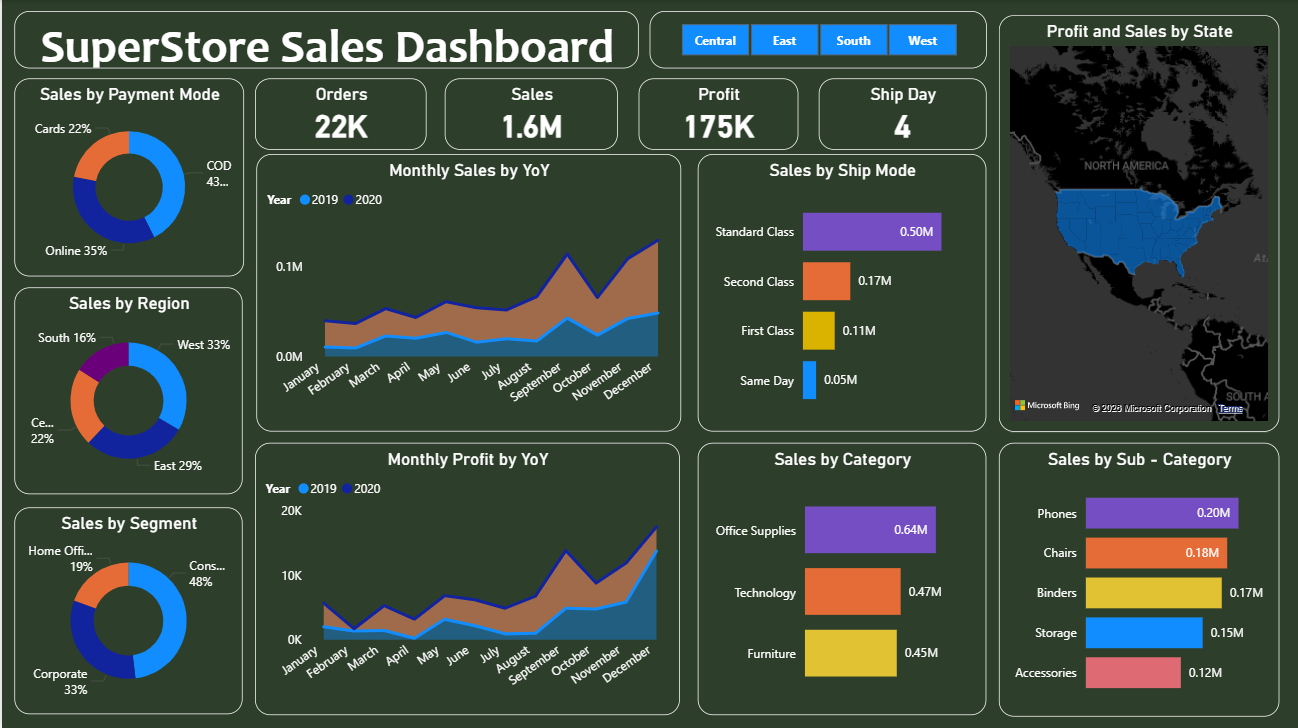

The page's visual inventory and layout, read from the dashboard file:
{"tool":"powerbi","page":{"name":"Page 1","canvas":[1280,720],"ordinal":0},"visuals":[{"type":"clusteredBarChart","title":"Sales by Category","fields":{"Category":["Sheet1.Category"],"Y":["Sum(Sheet1.Sales)"]},"box":[687.3,437.4,285.2,268.9],"z":0},{"type":"clusteredBarChart","title":"Sales by Sub - Category","fields":{"Category":["Sheet1.Sub-Category"],"Y":["Sum(Sheet1.Sales)"]},"box":[984.8,437.4,277.1,270.3],"z":1000},{"type":"clusteredBarChart","title":"Sales by Ship Mode","fields":{"Category":["Sheet1.Ship Mode"],"Y":["Sum(Sheet1.Sales)"]},"box":[687.3,152.1,285.2,274.4],"z":2000},{"type":"stackedAreaChart","title":"Monthly Sales by YoY","fields":{"Y":["Sum(Sheet1.Sales)"],"Category":["Sheet1.Order Date.Variation.Date Hierarchy.Month","Sheet1.Order Date.Variation.Date Hierarchy.Day"],"Series":["Sheet1.Order Date.Variation.Date Hierarchy.Year"]},"box":[251.3,152.1,419.7,274.4],"z":3000},{"type":"stackedAreaChart","title":"Monthly Profit by YoY","fields":{"Category":["Sheet1.Order Date.Variation.Date Hierarchy.Month","Sheet1.Order Date.Variation.Date Hierarchy.Day"],"Series":["Sheet1.Order Date.Variation.Date Hierarchy.Year"],"Y":["Sum(Sheet1.Profit)"]},"box":[249.9,437.4,419.7,268.9],"z":4000},{"type":"filledMap","title":"Profit and Sales by State","fields":{"Category":["Sheet1.State"]},"box":[984.8,14.9,277.1,411.6],"z":5000},{"type":"donutChart","title":"Sales by Segment","fields":{"Y":["Sum(Sheet1.Sales)"],"Category":["Sheet1.Segment"]},"box":[12.9,501.4,225.7,204.3],"z":6000},{"type":"donutChart","title":"Sales by Payment Mode","fields":{"Y":["Sum(Sheet1.Sales)"],"Category":["Sheet1.Payment Mode"]},"box":[12.2,77.4,226.8,195.6],"z":7000},{"type":"donutChart","title":"Sales by Region","fields":{"Y":["Sum(Sheet1.Sales)"],"Category":["Sheet1.Region"]},"box":[12.9,284.3,225.7,204.3],"z":8000},{"type":"textbox","title":"SuperStore Sales Dashboard","box":[12.2,10.9,616.7,57],"z":9000},{"type":"slicer","fields":{"Values":["Sheet1.Region"]},"box":[639.8,10.9,332.8,57],"z":10000},{"type":"card","title":"Orders","fields":{"Values":["Sum(Sheet1.Quantity)"]},"box":[249.9,77.4,169.8,70.6],"z":11000},{"type":"card","title":"Sales","fields":{"Values":["Sum(Sheet1.Sales)"]},"box":[437.4,77.4,171.1,70.6],"z":12000},{"type":"card","title":"Profit","fields":{"Values":["Sum(Sheet1.Profit)"]},"box":[628.9,77.4,157.6,70.6],"z":13000},{"type":"card","title":"Ship Day","fields":{"Values":["Avg(Sheet1.AvgDelivery)"]},"box":[806.8,77.4,165.7,70.6],"z":14000}]}

Visuals, with their boxes in screenshot pixels (x1, y1, x2, y2), scaled from the page's 1280x720 canvas onto the 1298x728 screenshot:
"Sales by Category" clusteredBarChart: <bbox>697, 442, 986, 714</bbox>
"Sales by Sub - Category" clusteredBarChart: <bbox>999, 442, 1280, 716</bbox>
"Sales by Ship Mode" clusteredBarChart: <bbox>697, 154, 986, 431</bbox>
"Monthly Sales by YoY" stackedAreaChart: <bbox>255, 154, 680, 431</bbox>
"Monthly Profit by YoY" stackedAreaChart: <bbox>253, 442, 679, 714</bbox>
"Profit and Sales by State" filledMap: <bbox>999, 15, 1280, 431</bbox>
"Sales by Segment" donutChart: <bbox>13, 507, 242, 714</bbox>
"Sales by Payment Mode" donutChart: <bbox>12, 78, 242, 276</bbox>
"Sales by Region" donutChart: <bbox>13, 287, 242, 494</bbox>
"SuperStore Sales Dashboard" textbox: <bbox>12, 11, 638, 69</bbox>
slicer - Sheet1.Region: <bbox>649, 11, 986, 69</bbox>
"Orders" card: <bbox>253, 78, 426, 150</bbox>
"Sales" card: <bbox>444, 78, 617, 150</bbox>
"Profit" card: <bbox>638, 78, 798, 150</bbox>
"Ship Day" card: <bbox>818, 78, 986, 150</bbox>
